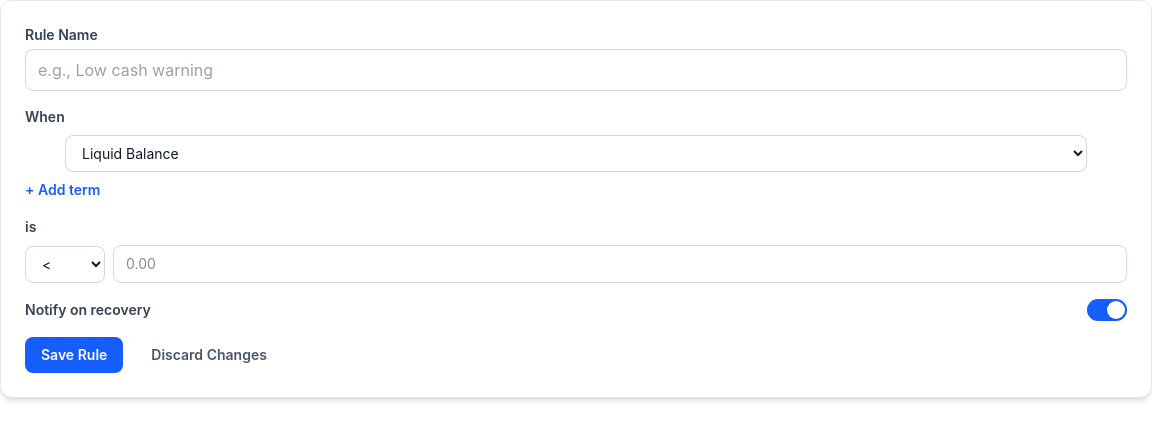
Test: AlertRuleForm › validates empty threshold on submit
Set name so only threshold fails
In the field with placeholder "e.g., Low cash warning": point(576, 70) [25,49,1127,91], type "Test Rule"
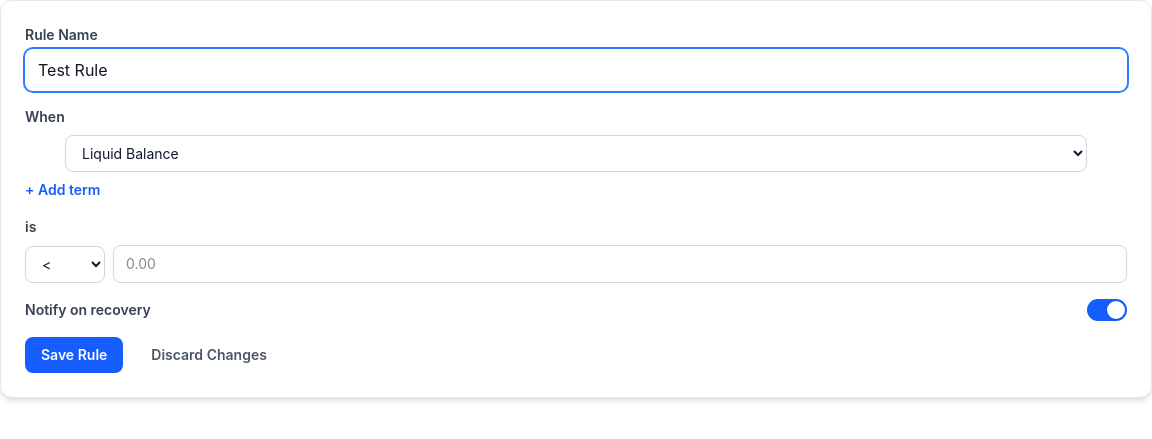
Click the button "Save Rule": point(74, 355) [25,337,123,373]
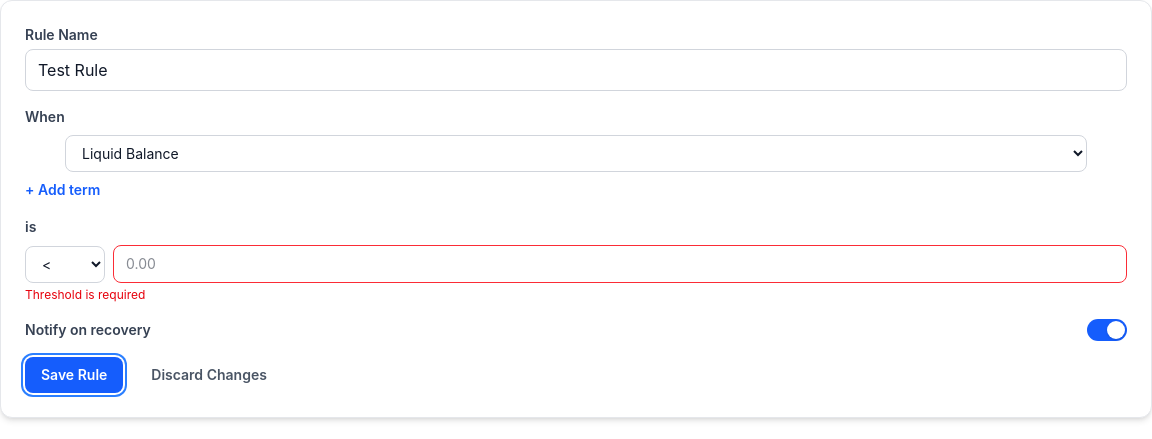
Now the text "Threshold is required" is shown, box [25,287,145,302]
